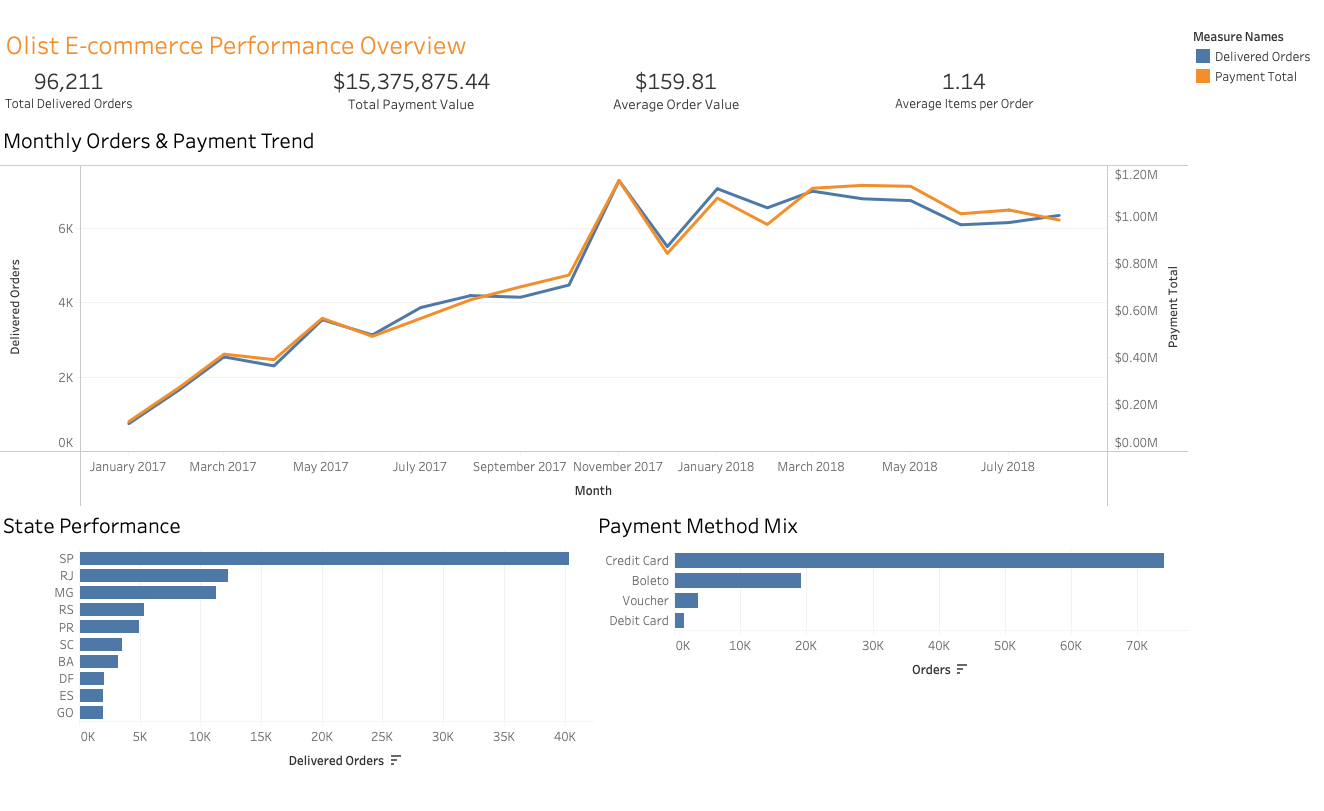

The page's visual inventory and layout, read from the dashboard file:
{"tool":"tableau","page":{"name":"Olist E-commerce Performance Overview","canvas":[1366,768],"ordinal":2},"visuals":[{"type":"title","box":[8,8,1190,42]},{"type":"legend","title":"Overview - Monthly Orders & Payment Trend","param":"[federated.11e8d0r17yptdw18lkg7r1svhwyy].[:Measure Names]","box":[1198,8,160,66]},{"type":"worksheet","title":"KPI - Total Delivered Orders","mark":"Automatic","box":[8,50,322.6,55.7]},{"type":"worksheet","title":"KPI - Total Payment Value","mark":"Automatic","box":[330.6,50,259.2,55.7]},{"type":"worksheet","title":"KPI-Average Order Value","mark":"Automatic","box":[590,50,304,56]},{"type":"worksheet","title":"KPI -  Average Items per Order","mark":"Automatic","box":[894,50,304,56]},{"type":"worksheet","title":"Overview - Monthly Orders & Payment Trend","mark":"Automatic","rows":["order_id","payment_total"],"cols":["order_purchase_timestamp"],"box":[8,105.7,1190,385.2]},{"type":"worksheet","title":"Overview - State Performance ","mark":"Automatic","rows":["customer_state"],"cols":["order_id"],"box":[8,490.9,595,269.1]},{"type":"worksheet","title":"Overview - Payment Method Mix","mark":"Automatic","rows":["payment_type"],"cols":["orders_using_payment_type"],"box":[603,491,595,269]}]}

Visuals, with their boxes in screenshot pixels (x1, y1, x2, y2):
title: [left=77, top=101, right=1214, bottom=141]
"Overview - Monthly Orders & Payment Trend" legend: [left=1214, top=101, right=1323, bottom=164]
"KPI - Total Delivered Orders" worksheet: [left=77, top=141, right=385, bottom=194]
"KPI - Total Payment Value" worksheet: [left=385, top=141, right=633, bottom=194]
"KPI-Average Order Value" worksheet: [left=633, top=141, right=923, bottom=194]
"KPI -  Average Items per Order" worksheet: [left=923, top=141, right=1214, bottom=194]
"Overview - Monthly Orders & Payment Trend" worksheet: [left=77, top=194, right=1214, bottom=562]
"Overview - State Performance " worksheet: [left=77, top=562, right=645, bottom=810]
"Overview - Payment Method Mix" worksheet: [left=645, top=562, right=1214, bottom=810]
